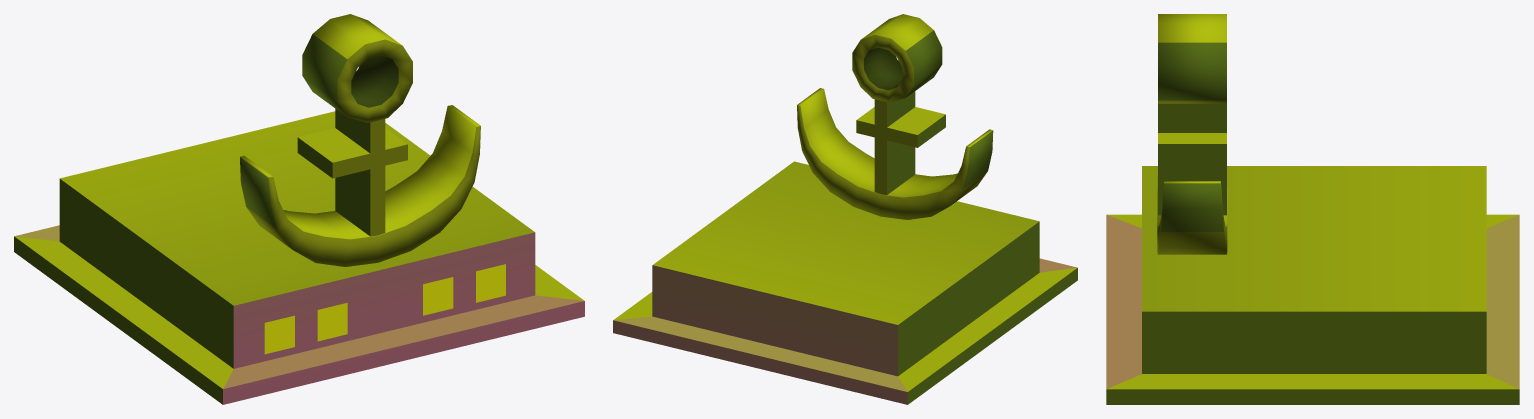
File: Port.AcidRain.glb
The picture shows the model from 3 angles, left to right: view 1: azimuth 30°, elevation 25°; view 2: azimuth 150°, elevation 25°; view 3: azimuth 270°, elevation 25°; orthographic projection. The views are drawn at different scales.
Visible parts, largest first — view 1: Port.AcidRain; view 2: Port.AcidRain; view 3: Port.AcidRain.
Part boxes in pixels (x1,y1,x2,y2): Port.AcidRain: (14, 14, 584, 404); Port.AcidRain: (613, 14, 1077, 404); Port.AcidRain: (1106, 14, 1519, 404).
Size of the model in its own units: 2.4 by 1.9 by 2.4.
2 materials, 1 textured.
